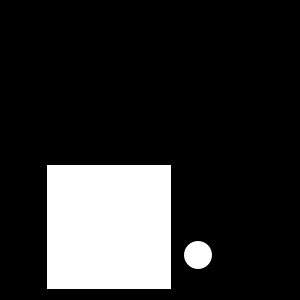circle: (47, 165, 171, 289)
rectangle: (184, 241, 212, 269)
